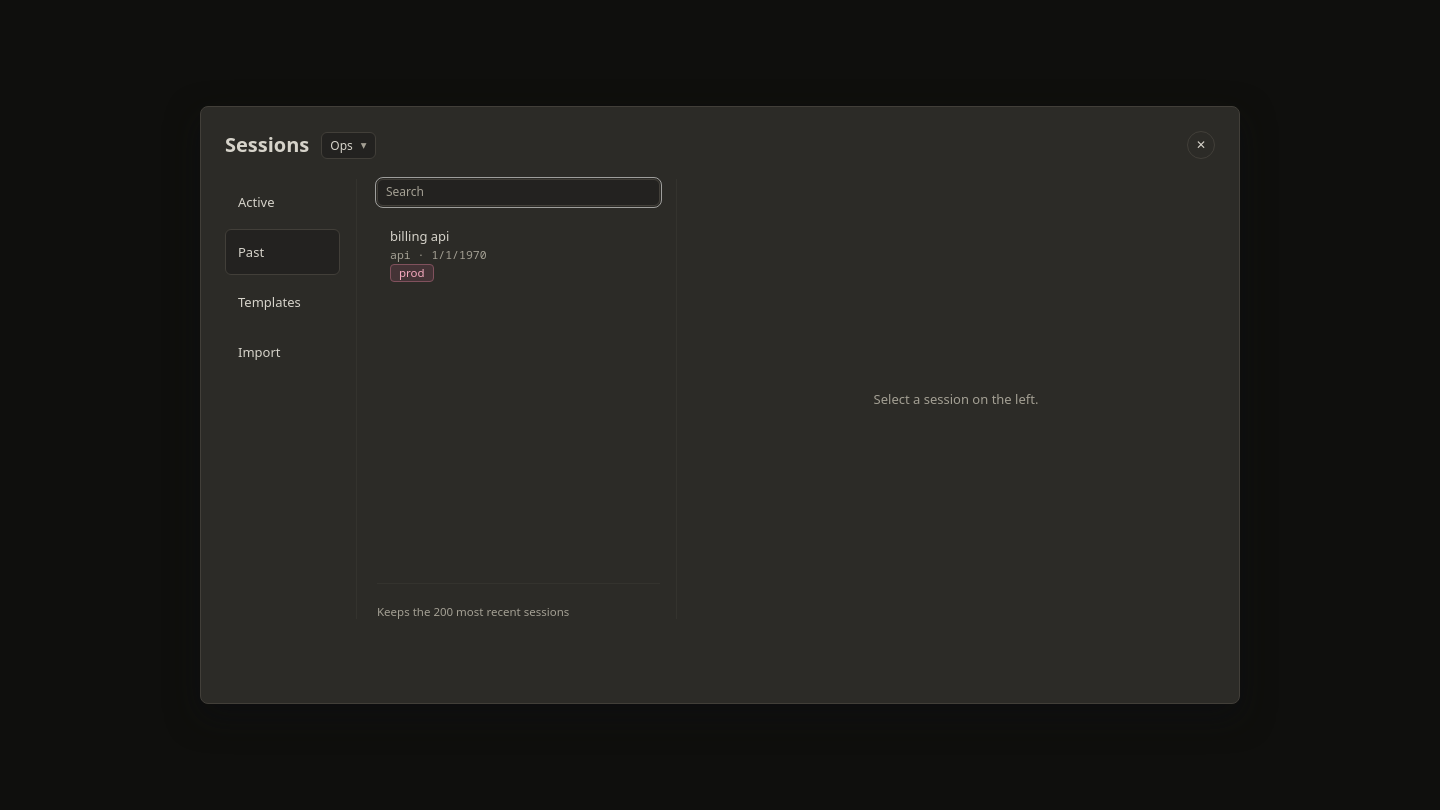
Test: PastSessionsDialog › Open is not rendered with no selection; selecting fills the read-only form
Click the button with test id "past-session-select-sa".
click(420, 236)  # box [378,219,659,290]
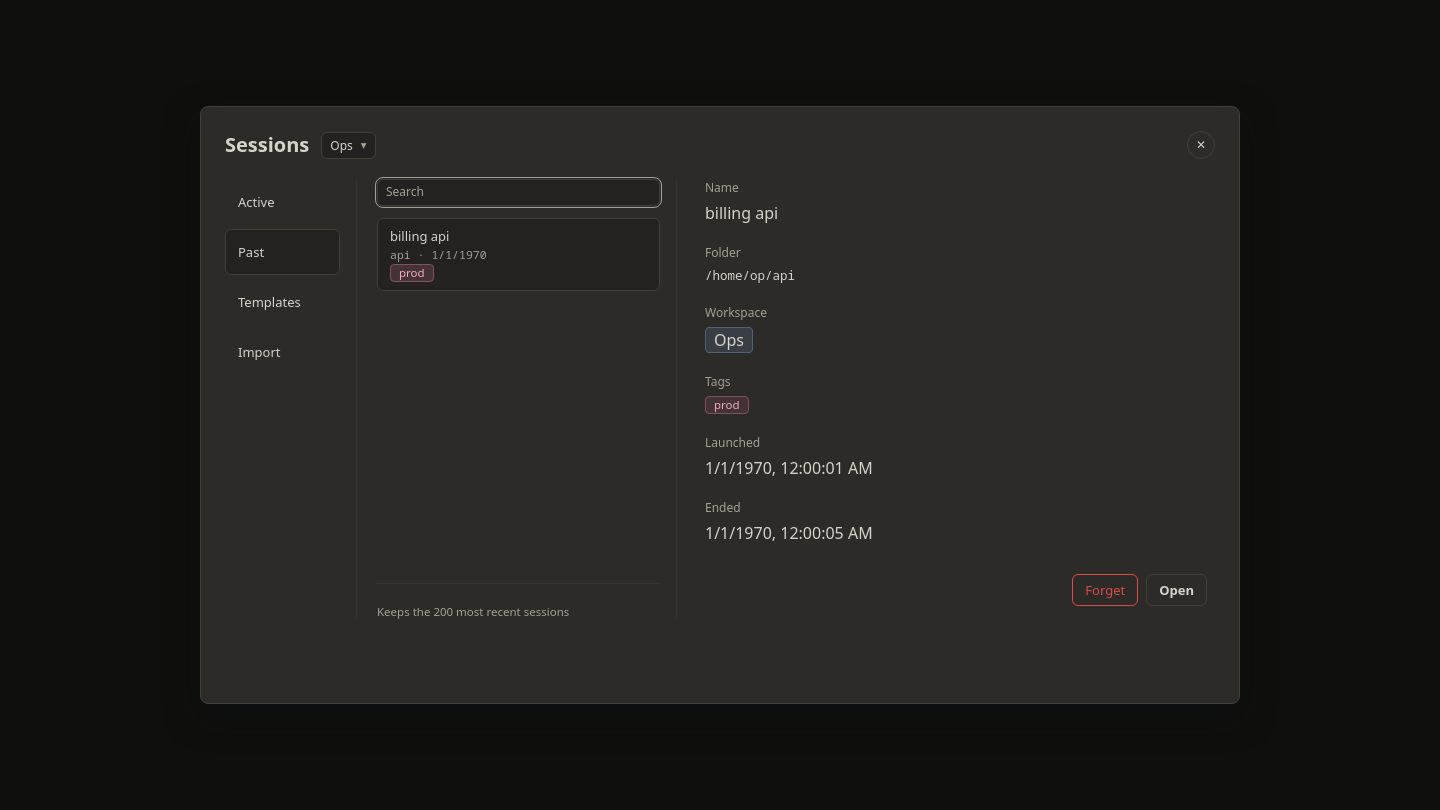
Now the button with test id "past-session-open" reads "Open", box [1146,574,1207,606]
Now the button with test id "past-session-open" is enabled, box [1146,574,1207,606]
Now the text with test id "past-session-form-name" reads "billing api", box [705,202,778,224]
